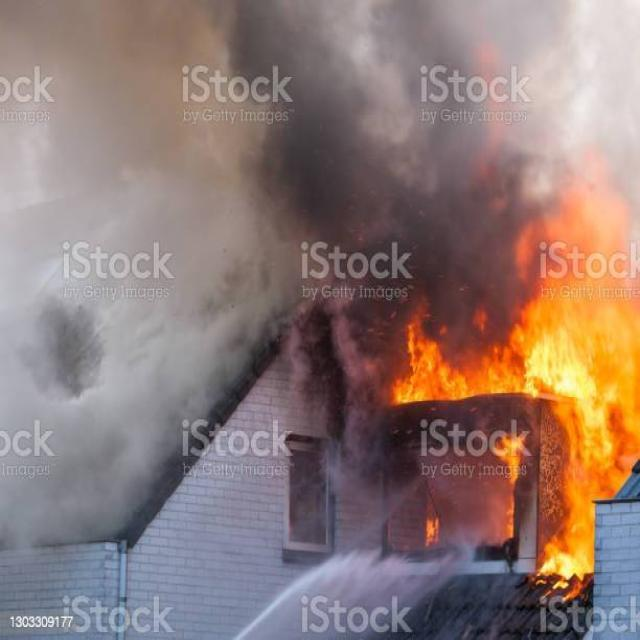Fire: (525, 195, 640, 594), (394, 319, 518, 404)
Smoke: (1, 0, 264, 514), (270, 2, 638, 170), (285, 177, 385, 464), (394, 180, 512, 302)
